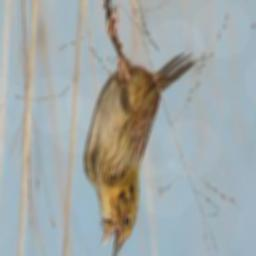Sparrow: (82, 7, 201, 256)
